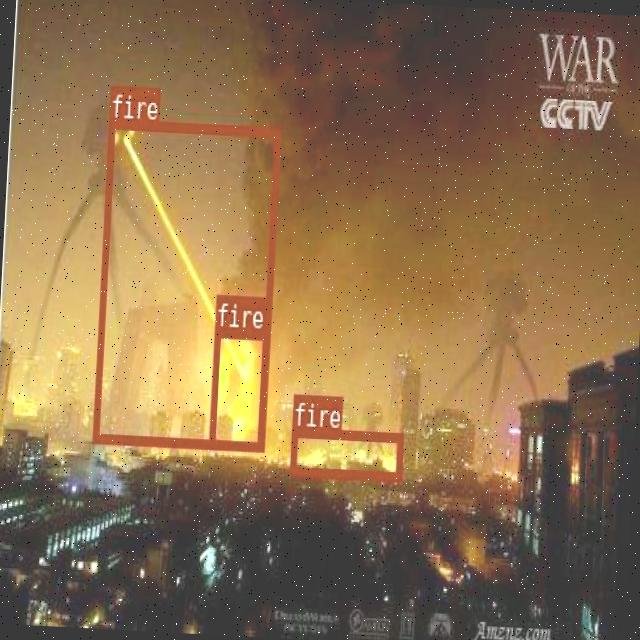fire: (92, 118, 280, 449), (208, 327, 268, 450), (289, 426, 402, 480)
